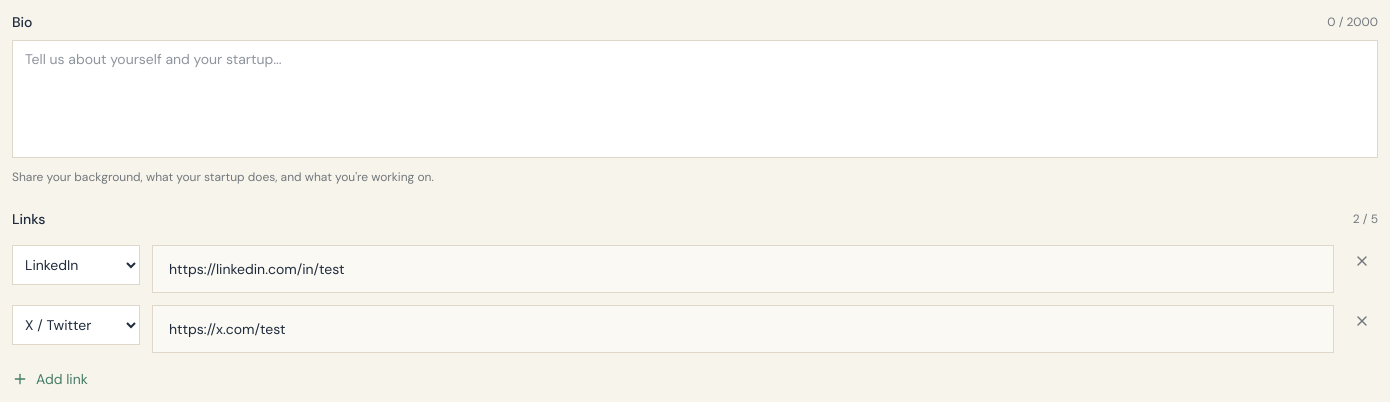
Scenario: BioLinksEditor › allows removing links
Step 1. Click the 1st button named "remove link" → (1362, 261), box [1346, 245, 1378, 277]
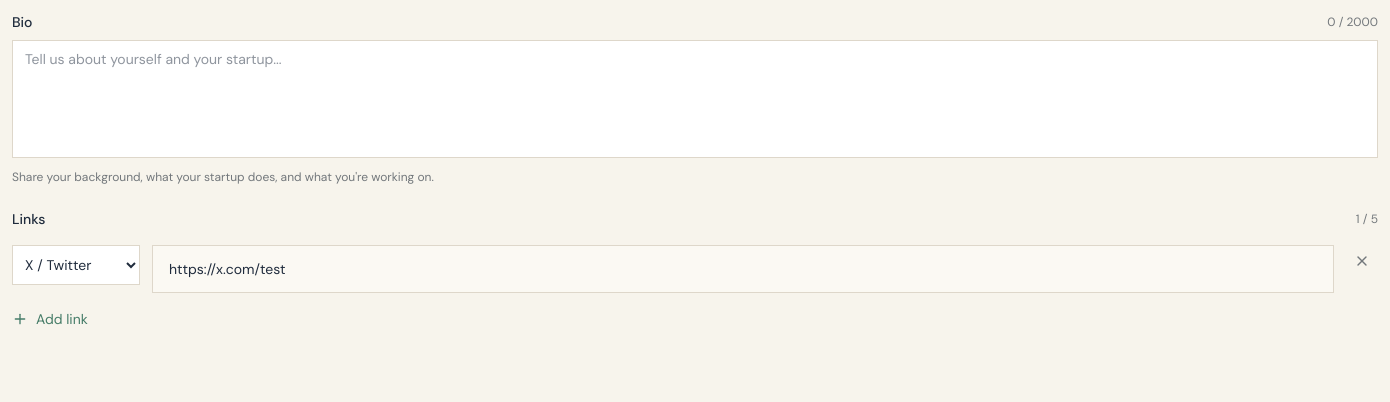
expect the number of buttons named "remove link" is 1: met, box [1346, 245, 1378, 277]
